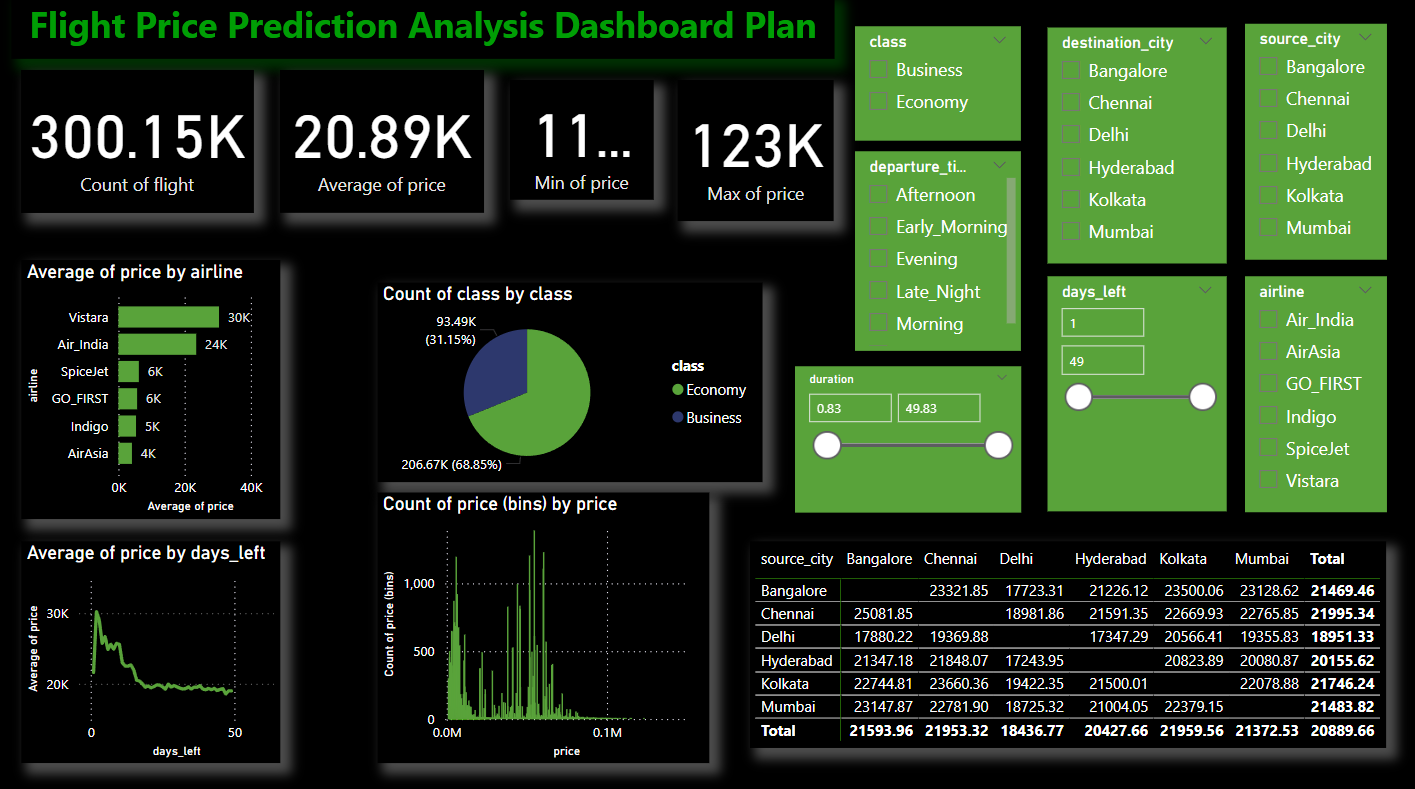

Layout of this report page (visuals, bound fields, positions):
{"tool":"powerbi","page":{"name":"Page 1","canvas":[1280,720],"ordinal":0},"visuals":[{"type":"textbox","box":[9.6,0,742.4,57.6],"z":0},{"type":"card","fields":{"Values":["CountNonNull(Clean_Dataset.flight)"]},"box":[19.2,67.2,209.9,129],"z":1000},{"type":"card","fields":{"Values":["Avg(Clean_Dataset.price)"]},"box":[252.5,67.2,183.9,129],"z":2000},{"type":"card","fields":{"Values":["Min(Clean_Dataset.price)"]},"box":[460.4,77.1,129.3,108],"z":3000},{"type":"card","fields":{"Values":["Max(Clean_Dataset.price)"]},"box":[611.1,77.1,141.2,127],"z":4000},{"type":"barChart","fields":{"Category":["Clean_Dataset.airline"],"Y":["Avg(Clean_Dataset.price)"]},"box":[19.2,238.8,233.3,233.3],"z":5000},{"type":"pieChart","fields":{"Category":["Clean_Dataset.class"],"Y":["CountNonNull(Clean_Dataset.class)"]},"box":[340.3,259.3,347.2,179.8],"z":6000},{"type":"clusteredColumnChart","fields":{"Category":["Clean_Dataset.price"],"Y":["CountNonNull(Clean_Dataset.price (bins))"]},"box":[340.3,448.7,299.1,244.3],"z":7000},{"type":"slicer","fields":{"Values":["Clean_Dataset.airline"]},"box":[1122.5,253.9,127.6,212.7],"z":8000},{"type":"slicer","fields":{"Values":["Clean_Dataset.source_city"]},"box":[1122.5,26.1,127.6,212.7],"z":9000},{"type":"pivotTable","fields":{"Columns":["Clean_Dataset.destination_city"],"Values":["Avg(Clean_Dataset.price)"],"Rows":["Clean_Dataset.source_city"]},"box":[676.5,492.6,573.6,186.6],"z":10001},{"type":"lineChart","fields":{"Category":["Clean_Dataset.days_left"],"Y":["Avg(Clean_Dataset.price)"]},"box":[19.2,492.6,233.3,200.3],"z":10002},{"type":"slicer","fields":{"Values":["Clean_Dataset.destination_city"]},"box":[944.1,28.8,161.9,212.7],"z":10003},{"type":"slicer","fields":{"Values":["Clean_Dataset.class"]},"box":[771.2,28.5,149.5,103.2],"z":10004},{"type":"slicer","fields":{"Values":["Clean_Dataset.departure_time"]},"box":[771.2,141.2,149.5,180.3],"z":10005},{"type":"slicer","fields":{"Values":["Clean_Dataset.days_left"]},"box":[944.5,253.9,161.4,212.4],"z":10006},{"type":"slicer","fields":{"Values":["Clean_Dataset.duration"]},"box":[716.7,334.6,204.1,131.7],"z":10007}]}

Visuals, with their boxes in screenshot pixels (x1, y1, x2, y2), scaled from the page's 1280x720 canvas onto the 1415x789 screenshot:
textbox: <bbox>11, 0, 831, 63</bbox>
card - CountNonNull(Clean_Dataset.flight): <bbox>21, 74, 253, 215</bbox>
card - Avg(Clean_Dataset.price): <bbox>279, 74, 482, 215</bbox>
card - Min(Clean_Dataset.price): <bbox>509, 84, 652, 203</bbox>
card - Max(Clean_Dataset.price): <bbox>676, 84, 832, 224</bbox>
barChart - Clean_Dataset.airline x Avg(Clean_Dataset.price): <bbox>21, 262, 279, 517</bbox>
pieChart - Clean_Dataset.class x CountNonNull(Clean_Dataset.class): <bbox>376, 284, 760, 481</bbox>
clusteredColumnChart - Clean_Dataset.price x CountNonNull(Clean_Dataset.price (bins)): <bbox>376, 492, 707, 759</bbox>
slicer - Clean_Dataset.airline: <bbox>1241, 278, 1382, 511</bbox>
slicer - Clean_Dataset.source_city: <bbox>1241, 29, 1382, 262</bbox>
pivotTable - Clean_Dataset.destination_city x Avg(Clean_Dataset.price): <bbox>748, 540, 1382, 744</bbox>
lineChart - Clean_Dataset.days_left x Avg(Clean_Dataset.price): <bbox>21, 540, 279, 759</bbox>
slicer - Clean_Dataset.destination_city: <bbox>1044, 32, 1223, 265</bbox>
slicer - Clean_Dataset.class: <bbox>853, 31, 1018, 144</bbox>
slicer - Clean_Dataset.departure_time: <bbox>853, 155, 1018, 352</bbox>
slicer - Clean_Dataset.days_left: <bbox>1044, 278, 1223, 511</bbox>
slicer - Clean_Dataset.duration: <bbox>792, 367, 1018, 511</bbox>
